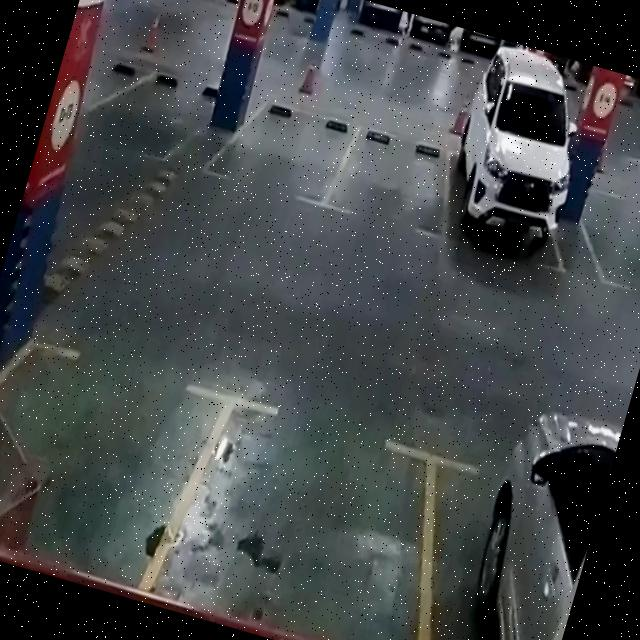empty: (138, 381, 483, 640), (207, 88, 357, 214), (328, 118, 464, 242), (88, 54, 220, 174), (564, 182, 640, 301)
occupied: (433, 46, 607, 272)
